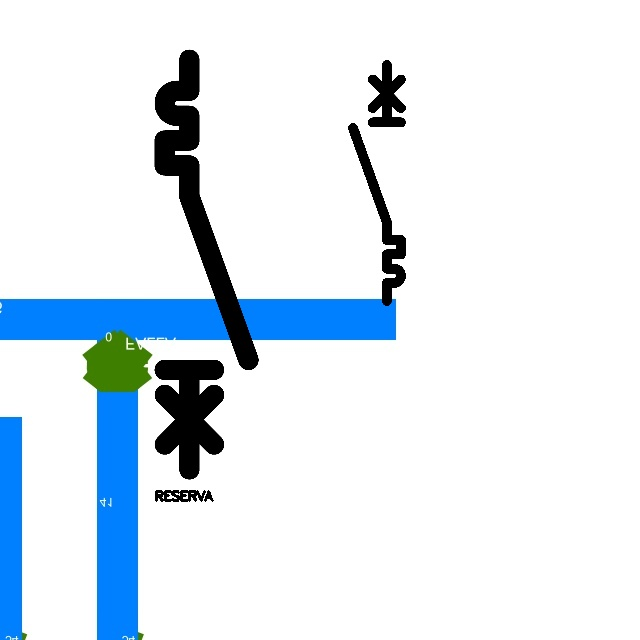interruptor_termomagnetico: (154, 49, 259, 480), (347, 59, 407, 307)
